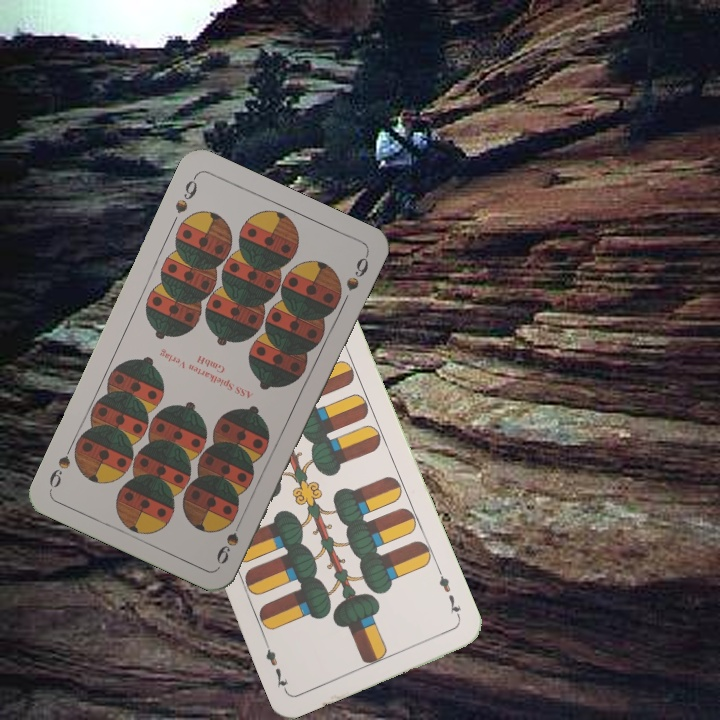E7: (434, 566, 464, 622)
S9: (212, 512, 246, 567), (171, 171, 200, 216)
